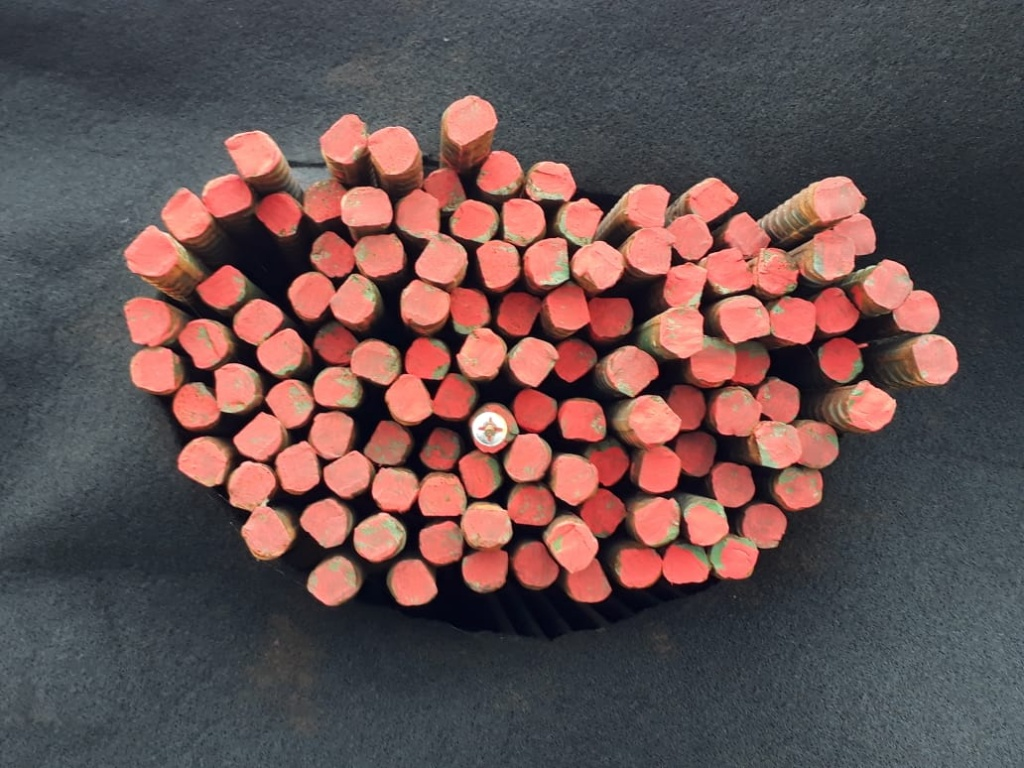dipstick: (443, 96, 497, 146), (124, 226, 179, 275), (225, 130, 279, 178), (241, 508, 291, 559), (307, 555, 357, 606), (415, 235, 467, 283), (469, 404, 519, 453), (629, 395, 679, 444), (608, 346, 657, 396), (162, 188, 210, 239), (177, 320, 228, 368), (227, 461, 275, 511), (865, 259, 913, 309), (848, 381, 896, 431), (551, 454, 598, 505), (457, 328, 506, 376), (548, 523, 597, 571), (353, 515, 403, 562), (510, 337, 557, 387), (912, 334, 958, 385), (124, 297, 171, 346), (265, 379, 312, 428), (233, 412, 282, 459), (369, 127, 418, 174), (580, 489, 627, 538), (573, 242, 623, 288), (720, 297, 770, 343), (233, 299, 284, 344), (299, 499, 346, 547), (385, 374, 432, 422), (351, 339, 400, 385), (331, 274, 377, 323), (321, 114, 367, 163), (400, 280, 449, 326), (713, 390, 761, 436), (395, 189, 439, 239), (702, 248, 752, 292), (661, 307, 704, 358), (172, 382, 219, 428), (288, 272, 334, 319), (512, 541, 559, 587), (627, 227, 673, 274), (770, 297, 816, 344), (363, 420, 411, 465), (634, 497, 679, 545), (688, 178, 737, 222), (202, 174, 252, 217), (460, 506, 512, 547), (323, 451, 369, 497), (504, 434, 550, 480), (755, 422, 801, 468), (390, 560, 437, 605), (475, 150, 522, 195), (710, 535, 758, 579), (814, 176, 862, 220), (690, 335, 735, 381), (817, 337, 862, 383), (129, 347, 176, 391), (178, 441, 225, 485), (525, 238, 569, 285), (813, 288, 860, 332), (276, 442, 318, 491), (341, 186, 392, 226), (725, 212, 770, 257), (476, 241, 520, 287), (636, 447, 680, 493), (546, 283, 589, 330), (197, 266, 245, 308), (450, 200, 498, 242), (559, 199, 601, 247), (813, 232, 855, 280), (215, 364, 256, 413), (257, 329, 302, 373), (458, 452, 502, 497), (566, 558, 611, 602), (372, 468, 418, 511), (894, 290, 940, 333), (558, 400, 605, 442), (664, 262, 706, 309), (314, 367, 362, 408), (775, 467, 823, 508), (354, 235, 404, 274), (311, 231, 355, 275), (496, 292, 540, 336), (743, 504, 787, 548), (256, 192, 301, 235), (513, 389, 558, 432), (684, 500, 727, 545), (554, 337, 596, 383), (418, 522, 464, 564), (755, 248, 797, 294), (503, 199, 544, 246), (419, 476, 466, 517), (525, 161, 575, 199), (422, 169, 466, 212), (756, 379, 799, 423), (311, 412, 353, 457), (670, 215, 712, 260), (797, 422, 838, 468), (626, 185, 669, 228), (434, 374, 476, 418), (712, 463, 754, 507), (405, 338, 450, 379), (462, 551, 508, 591), (615, 547, 661, 587), (676, 431, 716, 477), (450, 287, 489, 334), (509, 486, 555, 525), (663, 544, 709, 583), (667, 384, 706, 430), (419, 427, 460, 470), (585, 447, 630, 486), (731, 340, 770, 385), (315, 323, 357, 364), (303, 181, 345, 222), (588, 297, 632, 336), (835, 213, 875, 254)
